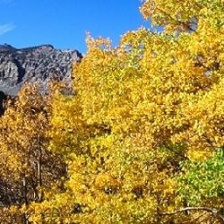neutral: (3, 4, 223, 224)
